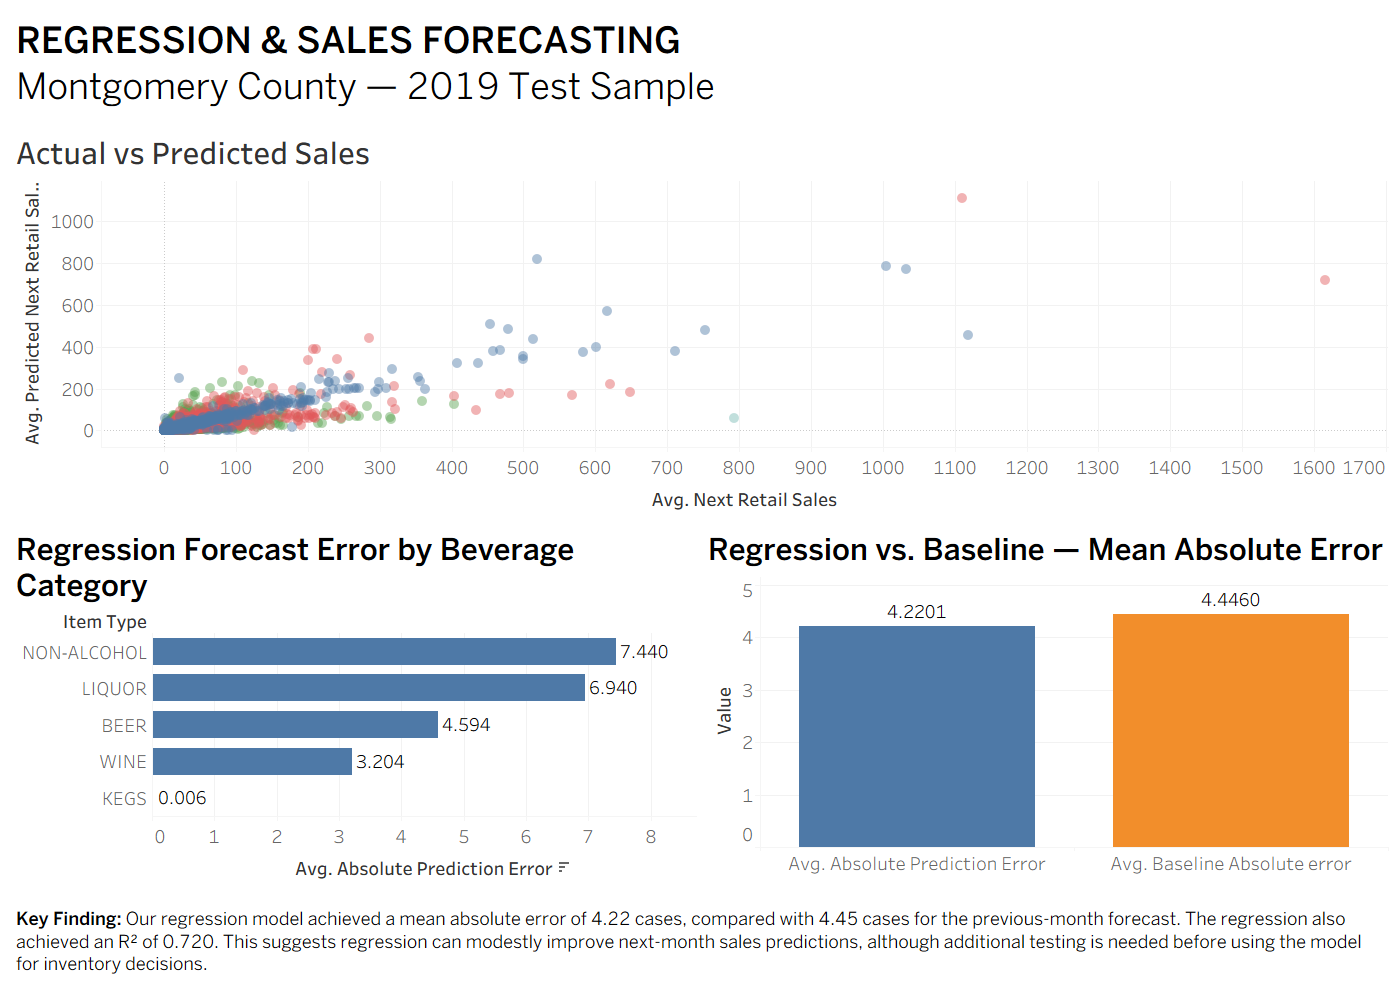

Layout of this report page (visuals, bound fields, positions):
{"tool":"tableau","page":{"name":"Dashboard 3 Sales Forecasting","canvas":[1400,1000],"ordinal":2},"visuals":[{"type":"text","box":[8,8,1384,112.9]},{"type":"worksheet","title":"Actual vs Predicted Sales","mark":"Circle","rows":["PREDICTED_NEXT_RETAIL_SALES"],"cols":["NEXT_RETAIL_SALES"],"box":[8,120.9,1384,401.3]},{"type":"worksheet","title":"Regression error by Category","mark":"Automatic","rows":["ITEM TYPE"],"cols":["Calculation_0850264493809666"],"box":[8,522.2,692,368.8]},{"type":"worksheet","title":"Regression vs Baseline Accuracy","mark":"Automatic","box":[700,522.2,692,368.8]},{"type":"text","box":[8,891,1384,101]}]}

Visuals, with their boxes in screenshot pixels (x1, y1, x2, y2), scaled from the page's 1400x1000 canvas onto the 1400x1000 screenshot:
text: {"x1": 8, "y1": 8, "x2": 1392, "y2": 121}
"Actual vs Predicted Sales" worksheet (Circle marks): {"x1": 8, "y1": 121, "x2": 1392, "y2": 522}
"Regression error by Category" worksheet: {"x1": 8, "y1": 522, "x2": 700, "y2": 891}
"Regression vs Baseline Accuracy" worksheet: {"x1": 700, "y1": 522, "x2": 1392, "y2": 891}
text: {"x1": 8, "y1": 891, "x2": 1392, "y2": 992}
